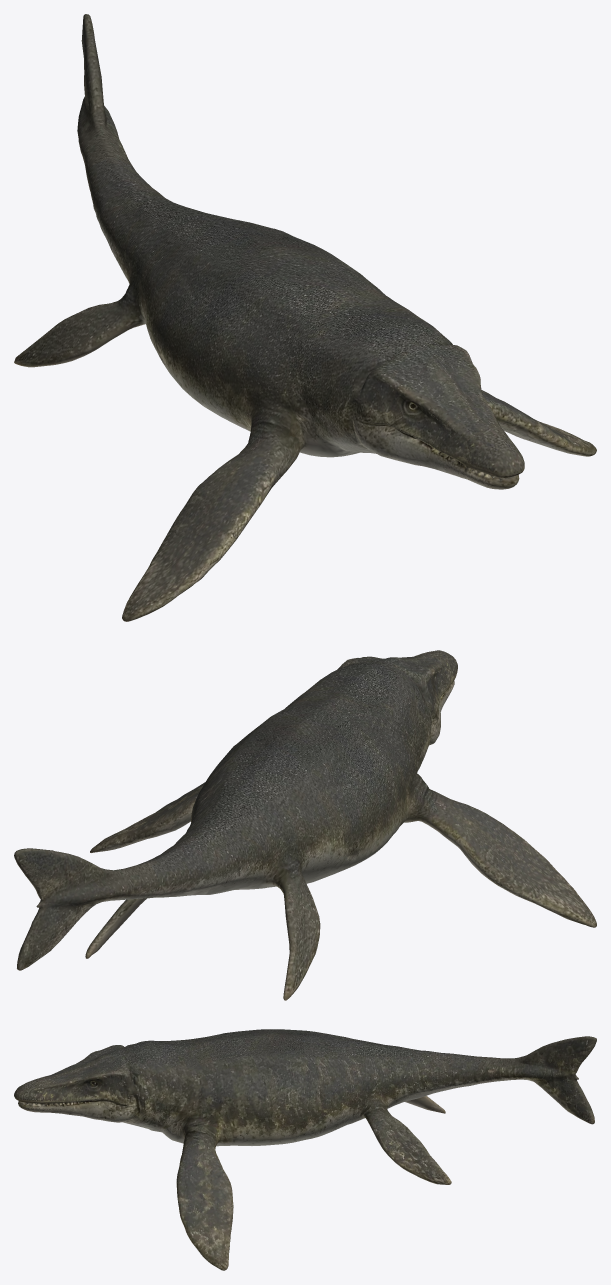
The model's file is mosasaurus.glb.
3 renders of one model, top to bottom at view 1: azimuth 30°, elevation 25°; view 2: azimuth 150°, elevation 25°; view 3: azimuth 270°, elevation 25°, orthographic. The views are drawn at different scales.
Visible parts, largest first — view 1: dino; view 2: dino; view 3: dino.
Part boxes in pixels (x1,y1,x2,y2): dino: (14,14,596,621); dino: (14,650,596,1000); dino: (14,1029,596,1270).
Bounding box in the file's own units: 7.86 × 3.83 × 12.
Materials: 1 (1 with a texture image).
